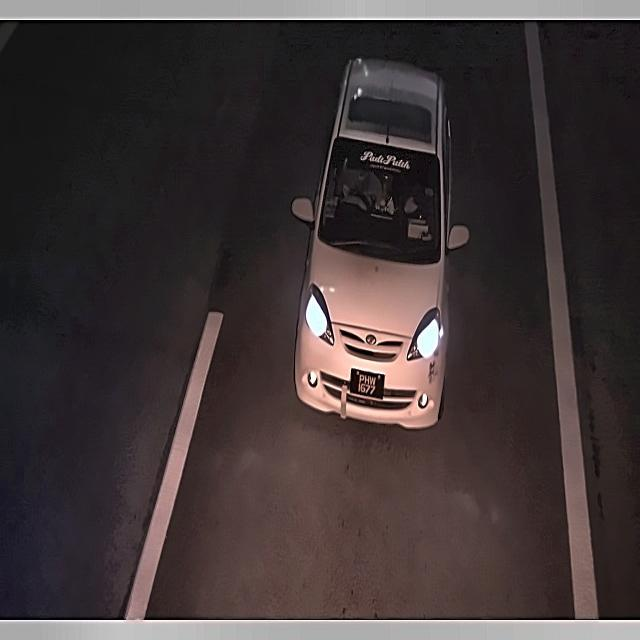car: (346, 357, 390, 408)
